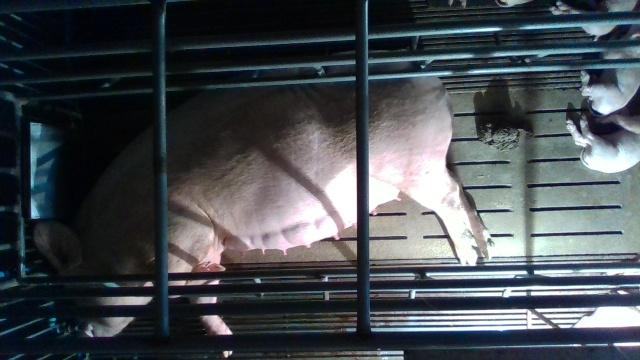piglet: (579, 24, 640, 117), (567, 116, 640, 173), (549, 0, 640, 40)
sow-sleep-lactate: (33, 61, 493, 357)
